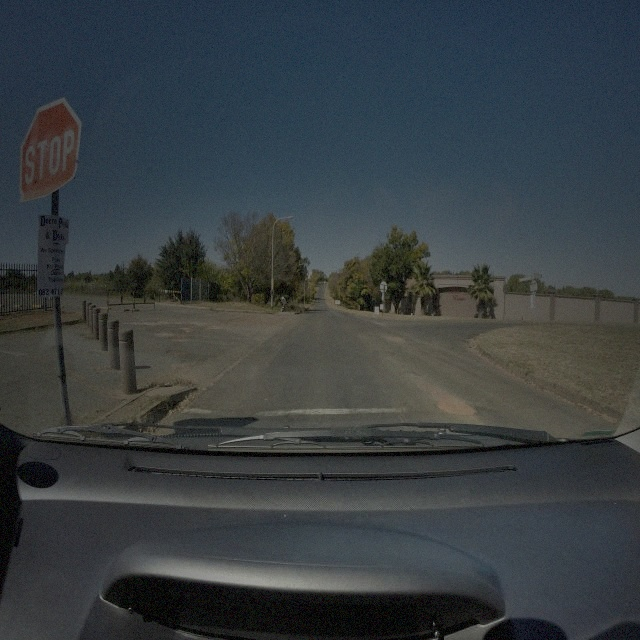pothole: (434, 394, 478, 418), (222, 317, 258, 328), (386, 333, 407, 345), (166, 349, 187, 359), (168, 334, 187, 343)
